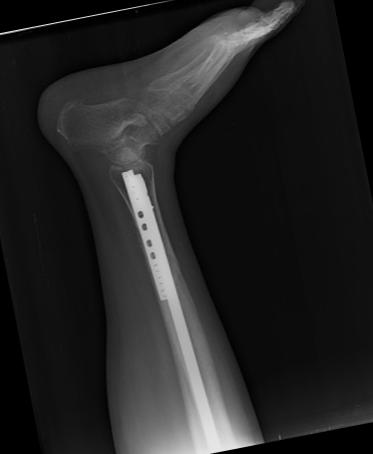fractured: (160, 236, 184, 285), (129, 215, 149, 267)
